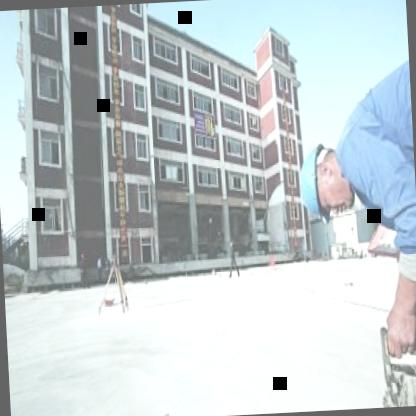helmet: (295, 138, 357, 218)
